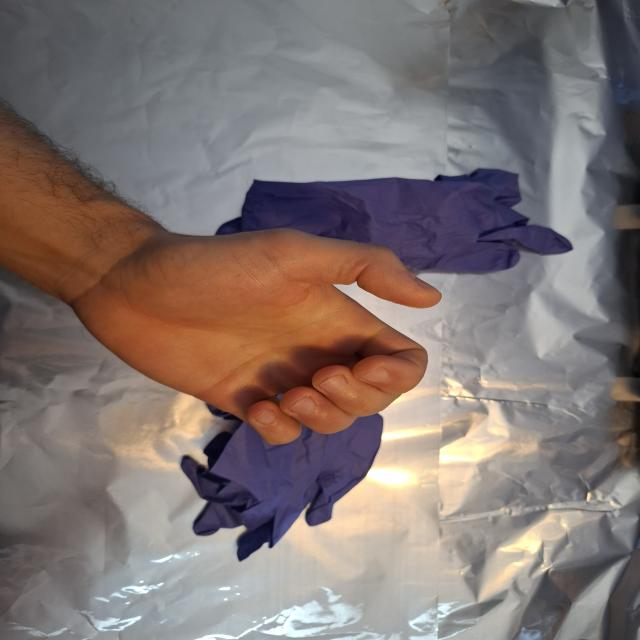glove_off: (70, 224, 444, 448)
